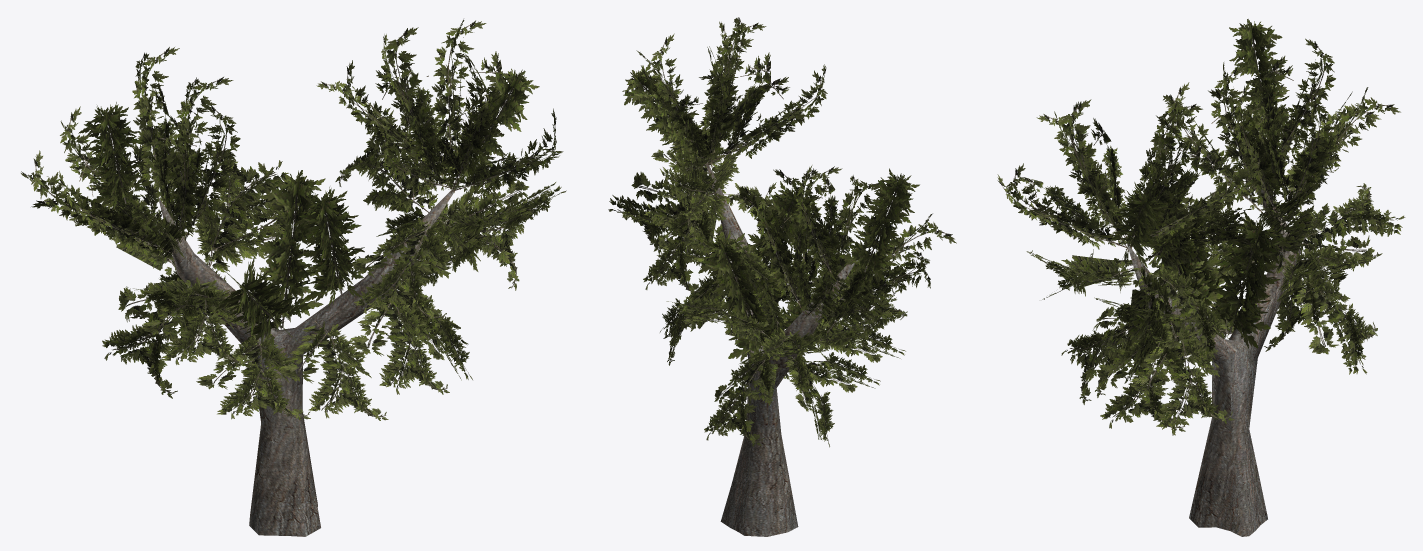
File: Sharp_Maple01.gltf
3 renders of one model, left to right at view 1: azimuth 30°, elevation 25°; view 2: azimuth 150°, elevation 25°; view 3: azimuth 270°, elevation 25°, orthographic. The views are drawn at different scales.
Visible parts, largest first — view 1: bbfol, bfol, cfol, ccfol, Trunk, Afol, bbfo, cfo, ccfo, bfo, Afo; view 2: cfol, bfol, ccfol, bbfol, Trunk, cfo, Afol, ccfo, bfo, bbfo, Afo; view 3: bbfol, cfol, ccfol, Trunk, bfol, bbfo, cfo, ccfo, bfo, Afol, Afo.
Part boxes in pixels (x1=…): bbfol: x1=280, y1=107, x2=566, y2=420; bfol: x1=69, y1=142, x2=310, y2=419; cfol: x1=21, y1=47, x2=240, y2=259; ccfol: x1=316, y1=19, x2=563, y2=201; Trunk: x1=158, y1=182, x2=460, y2=536; Afol: x1=215, y1=170, x2=371, y2=347; bbfo: x1=279, y1=110, x2=555, y2=420; cfo: x1=34, y1=54, x2=236, y2=251; ccfo: x1=343, y1=23, x2=547, y2=192; bfo: x1=69, y1=143, x2=310, y2=419; Afo: x1=224, y1=193, x2=323, y2=359; cfol: x1=739, y1=166, x2=956, y2=324; bfol: x1=666, y1=233, x2=907, y2=447; ccfol: x1=622, y1=17, x2=826, y2=183; bbfol: x1=608, y1=125, x2=845, y2=365; Trunk: x1=705, y1=158, x2=854, y2=536; cfo: x1=757, y1=165, x2=929, y2=326; Afol: x1=698, y1=181, x2=874, y2=369; ccfo: x1=624, y1=17, x2=827, y2=169; bfo: x1=674, y1=245, x2=906, y2=445; bbfo: x1=612, y1=124, x2=858, y2=365; Afo: x1=699, y1=266, x2=845, y2=361; bbfol: x1=1026, y1=205, x2=1256, y2=435; cfol: x1=1168, y1=19, x2=1400, y2=220; ccfol: x1=997, y1=94, x2=1259, y2=267; Trunk: x1=1127, y1=136, x2=1301, y2=536; bfol: x1=1133, y1=178, x2=1405, y2=374; bbfo: x1=1027, y1=212, x2=1255, y2=431; cfo: x1=1166, y1=23, x2=1359, y2=209; ccfo: x1=998, y1=95, x2=1262, y2=267; bfo: x1=1132, y1=178, x2=1400, y2=374; Afol: x1=1141, y1=185, x2=1290, y2=348; Afo: x1=1187, y1=214, x2=1289, y2=347.
Bounding box in the file's own units: 15.85 × 17.21 × 13.66.
2 materials, 2 textured.
